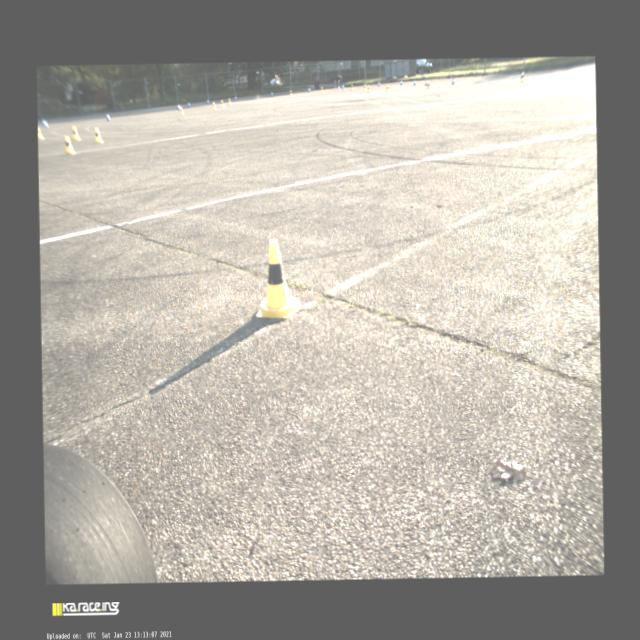blue_cone: (106, 113, 110, 121), (451, 77, 454, 84), (377, 81, 380, 86), (234, 95, 237, 100), (188, 101, 190, 108), (413, 79, 415, 85), (400, 79, 402, 85), (308, 86, 310, 92), (425, 79, 427, 85), (178, 104, 180, 109), (206, 99, 208, 104), (270, 92, 272, 96), (342, 84, 344, 88)
yellow_cone: (255, 238, 300, 316), (64, 135, 75, 154), (94, 127, 103, 143), (72, 124, 80, 140), (520, 70, 524, 82), (426, 80, 431, 88), (180, 106, 184, 114), (386, 84, 390, 92), (212, 102, 215, 110), (220, 99, 223, 107), (228, 97, 231, 104), (367, 85, 370, 92), (363, 83, 366, 90), (351, 84, 354, 90), (290, 90, 292, 96), (321, 86, 323, 92)
